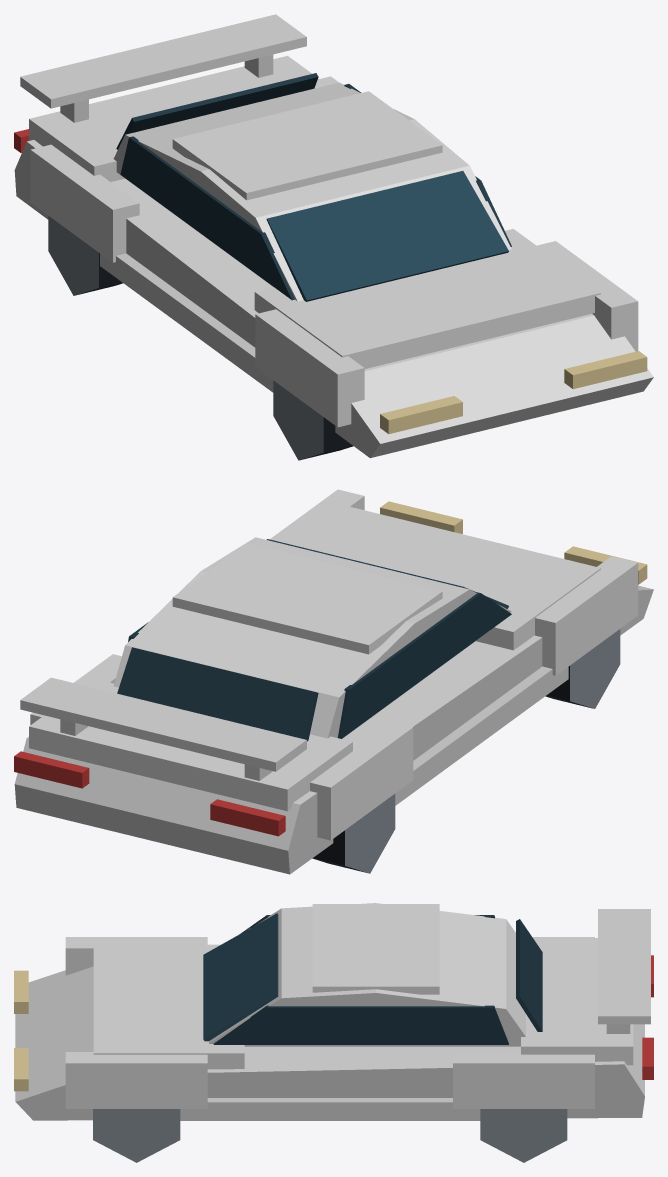
Rendered from car_sports_lod1.glb.
3 renders of one model, top to bottom at view 1: azimuth 30°, elevation 25°; view 2: azimuth 150°, elevation 25°; view 3: azimuth 270°, elevation 25°, orthographic. The views are drawn at different scales.
Visible parts, largest first — view 1: paint, trim; view 2: paint, trim; view 3: paint, trim.
Part boxes in pixels (left/top/right/bottom): paint: left=14, top=14, right=653, bottom=458; trim: left=14, top=73, right=647, bottom=460; paint: left=14, top=489, right=653, bottom=874; trim: left=14, top=501, right=647, bottom=873; paint: left=15, top=903, right=650, bottom=1120; trim: left=14, top=913, right=653, bottom=1162.
Bounding box in the file's own units: 2.02 × 1.16 × 4.33.
